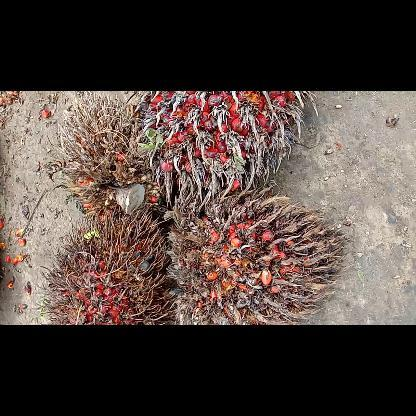Terlalu masak: (167, 186, 351, 324), (125, 91, 323, 197), (53, 90, 173, 226), (38, 210, 178, 324)
